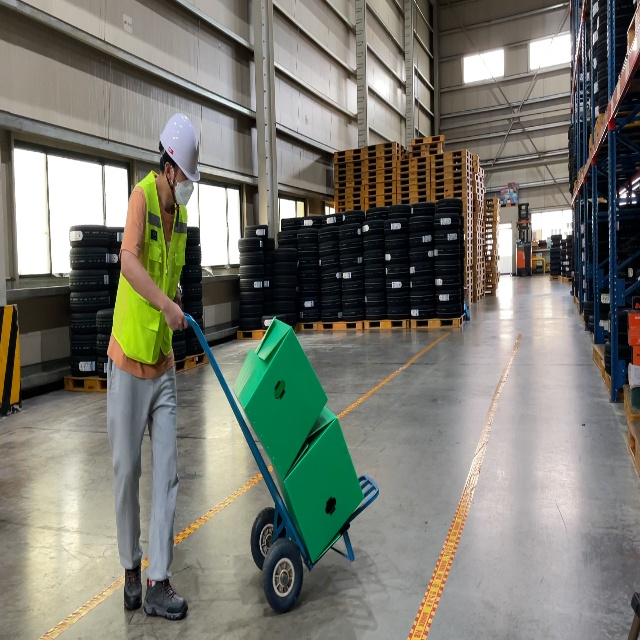Box: (232, 315, 329, 483), (271, 404, 365, 564)
Worker: (106, 110, 201, 621)
